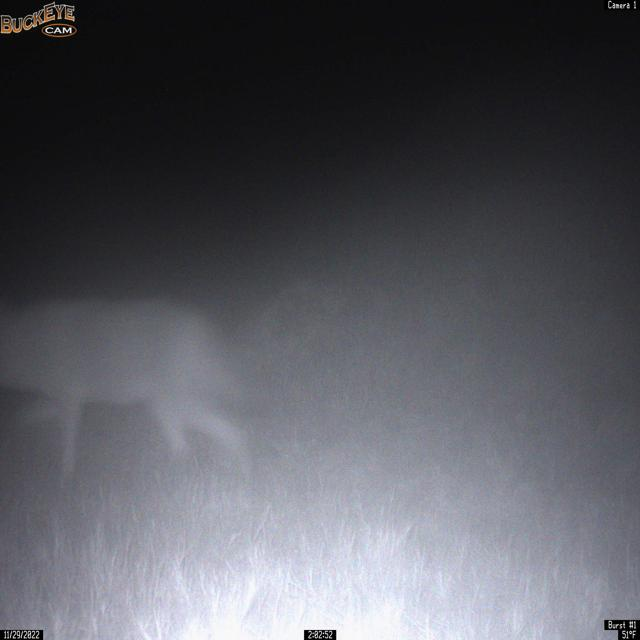coyote: (0, 285, 261, 497)
